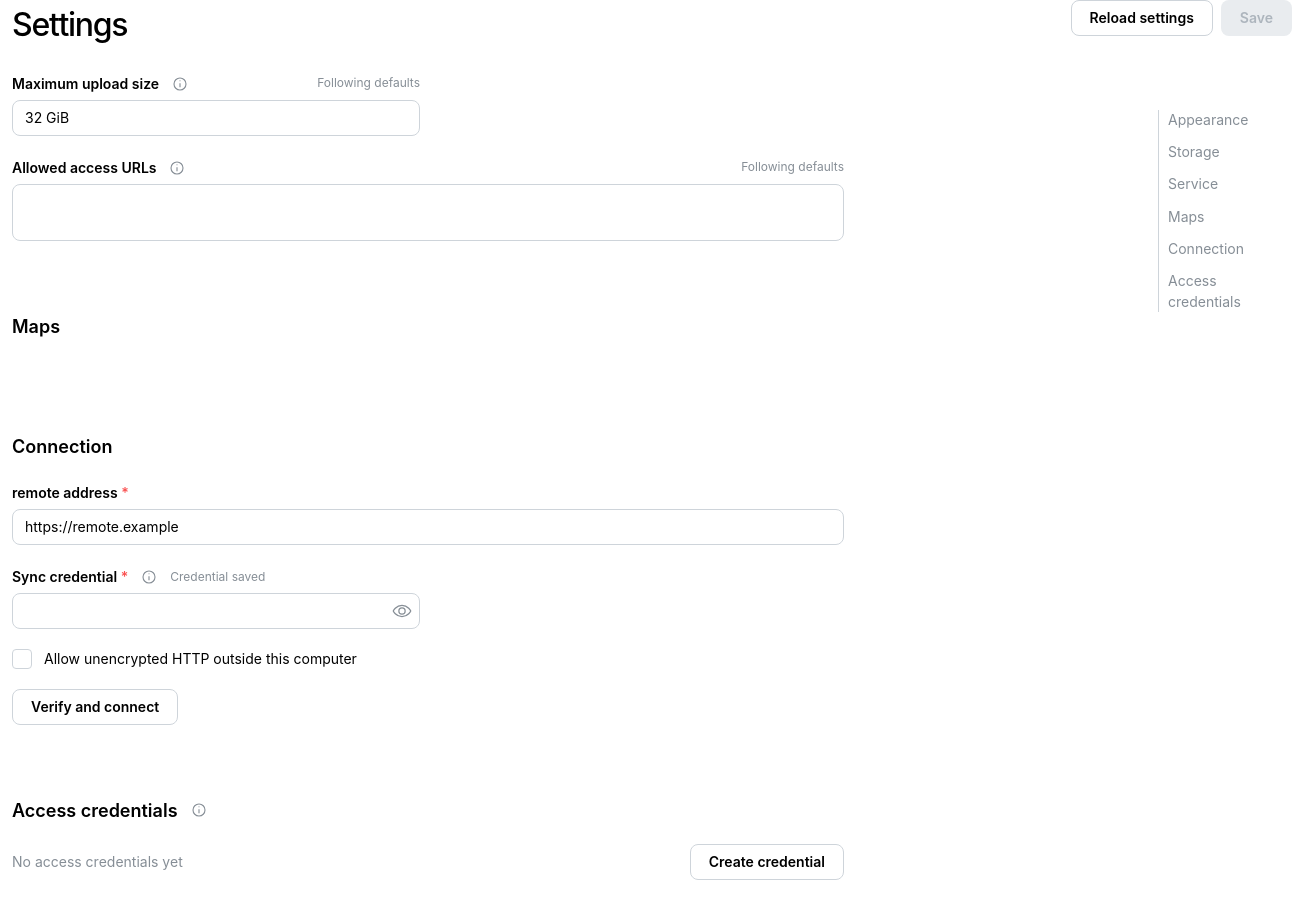
Test case: shows an empty credential row without a table and can open and cancel creation
(page scrolled)
expect the text "No access credentials yet" is shown: met, box [12,852,183,873]
Click the button "Create credential".
click(767, 862)  # box [690,844,844,880]
(page scrolled)
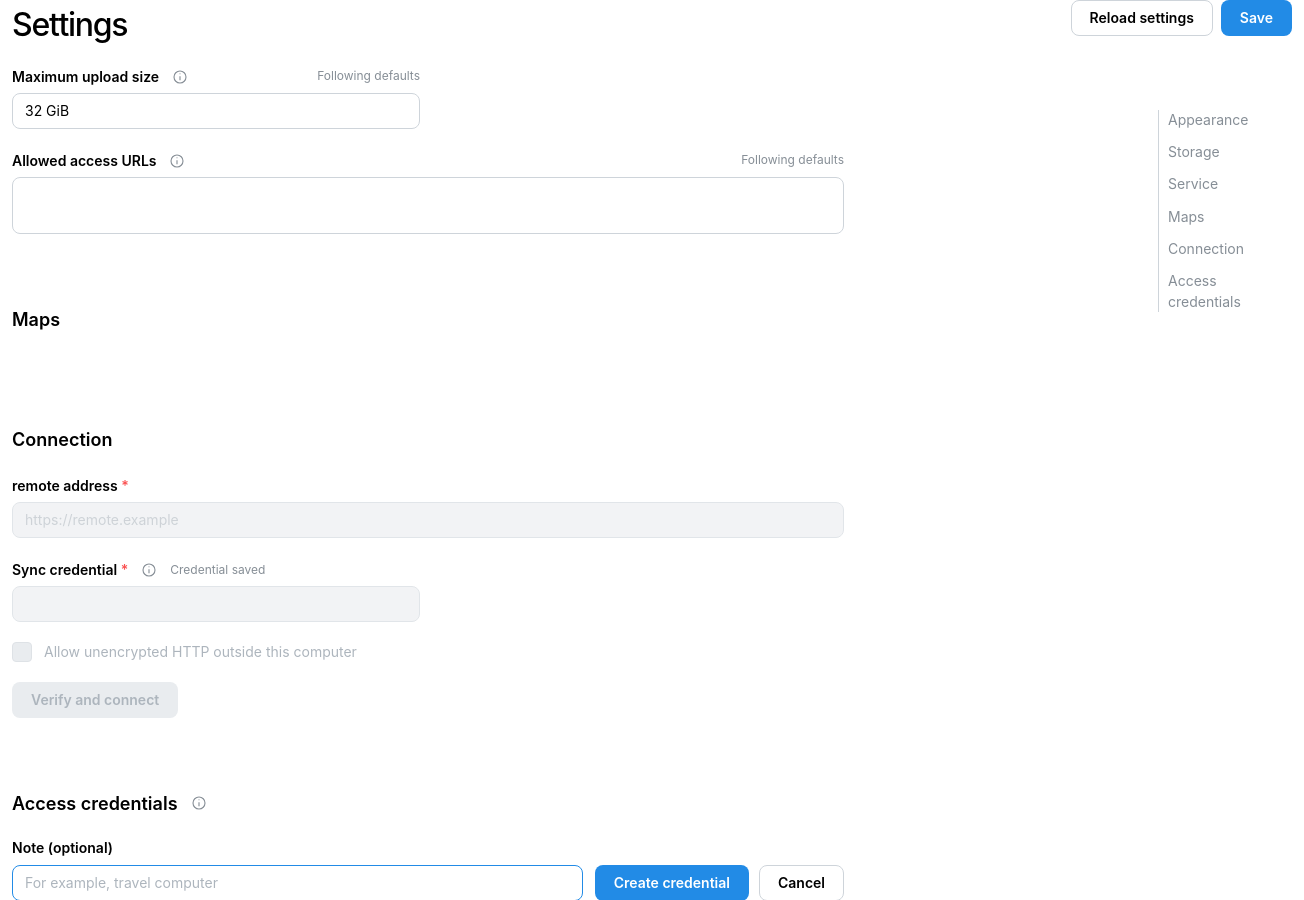
expect the field labelled "Note (optional)" is shown: met, box [12,865,583,899]
expect the text "No access credentials yet" is gone: met
Click the button "Cancel".
click(802, 883)  # box [759,865,844,899]
(page scrolled)
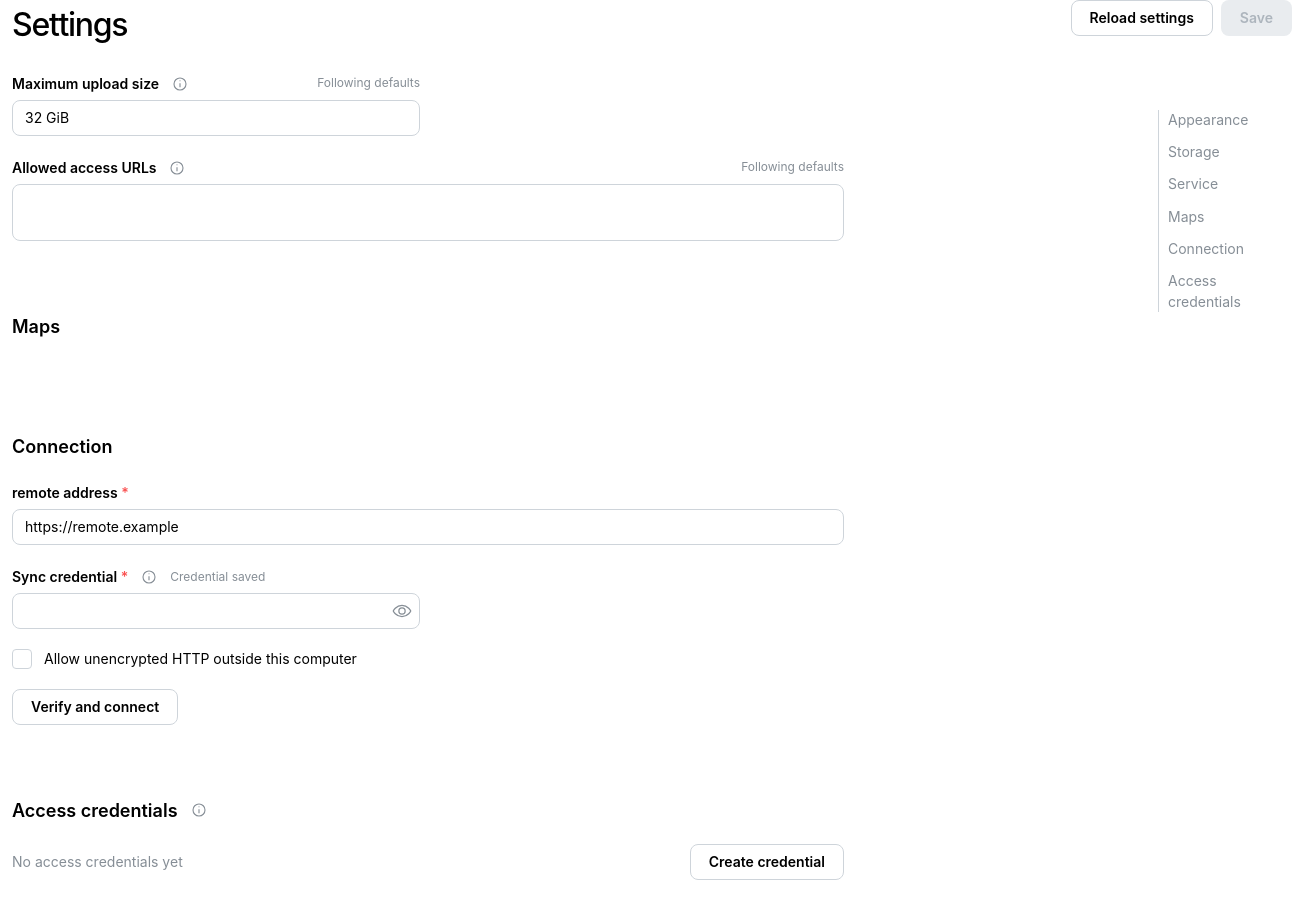
expect the text "No access credentials yet" is shown: met, box [12,852,183,873]
